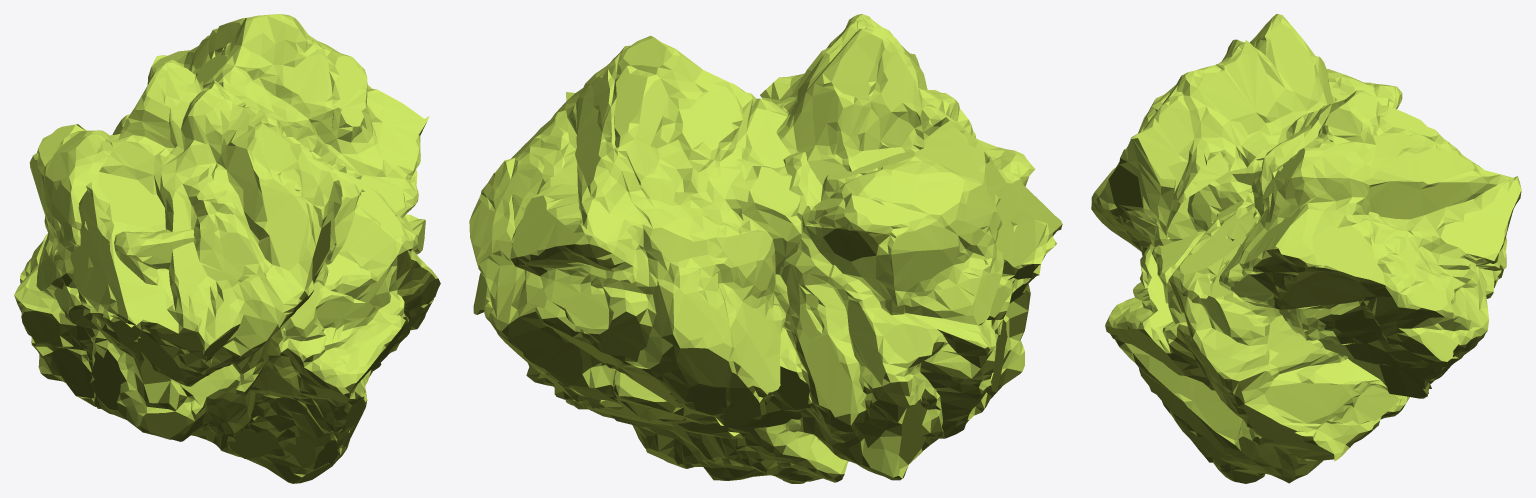
The model's file is tree_gen2_2.fbx.
3 renders of one model, left to right at view 1: azimuth 30°, elevation 25°; view 2: azimuth 150°, elevation 25°; view 3: azimuth 270°, elevation 25°, orthographic. The views are drawn at different scales.
Visible parts, largest first — view 1: tree1_LOD0; view 2: tree1_LOD0; view 3: tree1_LOD0.
Boxes of the visible parts, x1,y1,x2,y2 form: tree1_LOD0: (14,14,440,483); tree1_LOD0: (469,14,1062,483); tree1_LOD0: (1091,14,1521,483).
Size of what is drawn, in the model's own units: 454 by 465 by 442.
